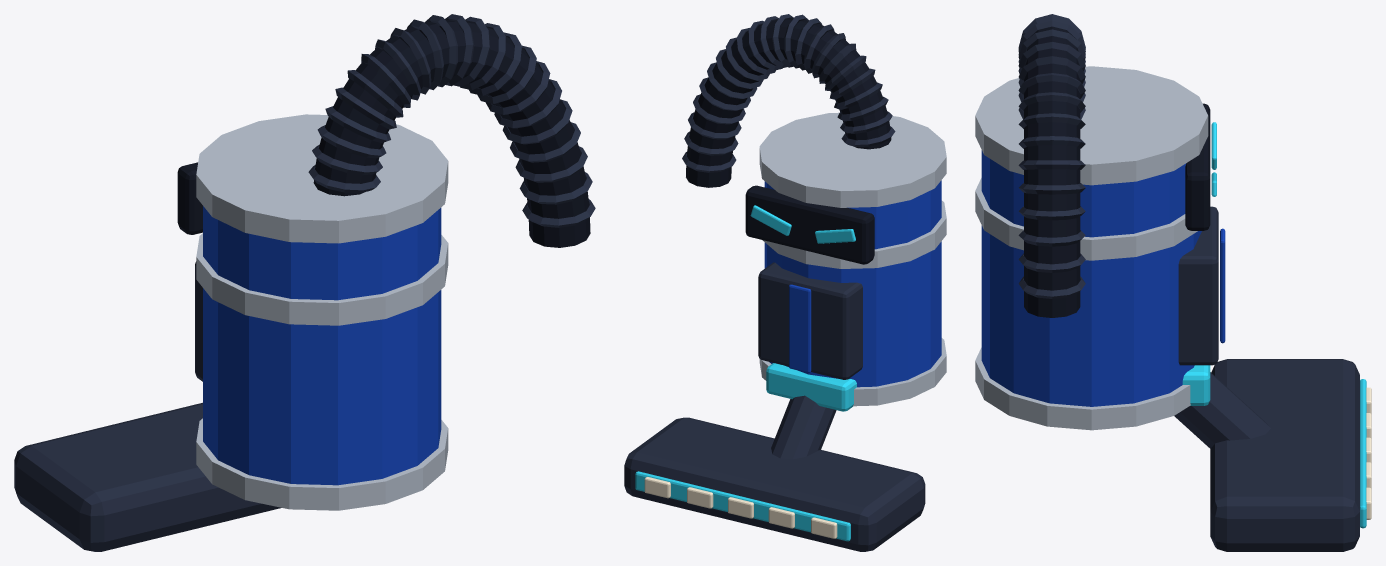
Rendered from VacuumV2.fbx.
The picture shows the model from 3 angles, left to right: view 1: azimuth 30°, elevation 25°; view 2: azimuth 150°, elevation 25°; view 3: azimuth 270°, elevation 25°; orthographic projection. The views are drawn at different scales.
Parts seen in each view (by area): view 1: VacuumBody; view 2: VacuumBody, VacuumGlow; view 3: VacuumBody, VacuumGlow.
Boxes of the visible parts, left/top/right/bottom form: VacuumBody: left=14, top=14, right=595, bottom=551; VacuumBody: left=624, top=14, right=946, bottom=551; VacuumGlow: left=635, top=205, right=856, bottom=541; VacuumBody: left=975, top=14, right=1371, bottom=551; VacuumGlow: left=1182, top=122, right=1366, bottom=528.
Size of the model in its own units: 2.12 by 2.64 by 1.91.
2 materials, 2 textured.
